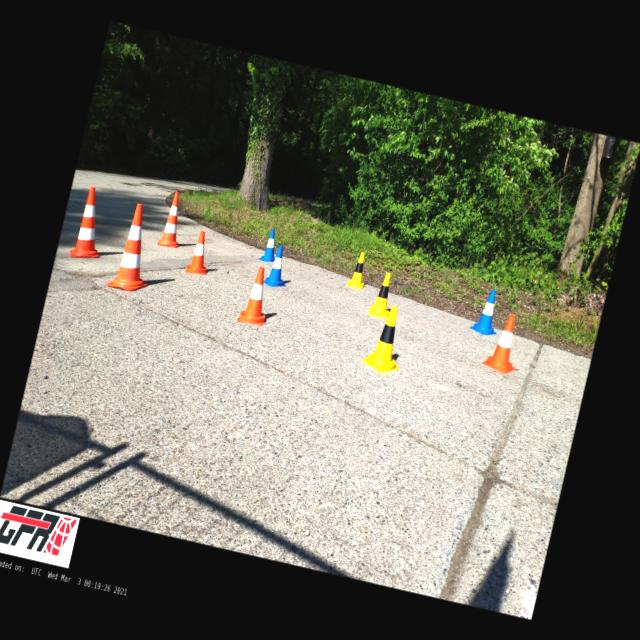blue_cone: (469, 286, 505, 337), (262, 243, 294, 289), (260, 228, 280, 263)
large_orange_cone: (106, 200, 164, 294), (70, 185, 114, 262), (158, 190, 189, 248)
orange_cone: (482, 310, 526, 376), (237, 264, 276, 326), (186, 230, 214, 276)
yellow_cone: (361, 302, 412, 376), (368, 270, 398, 318), (346, 250, 371, 289)
